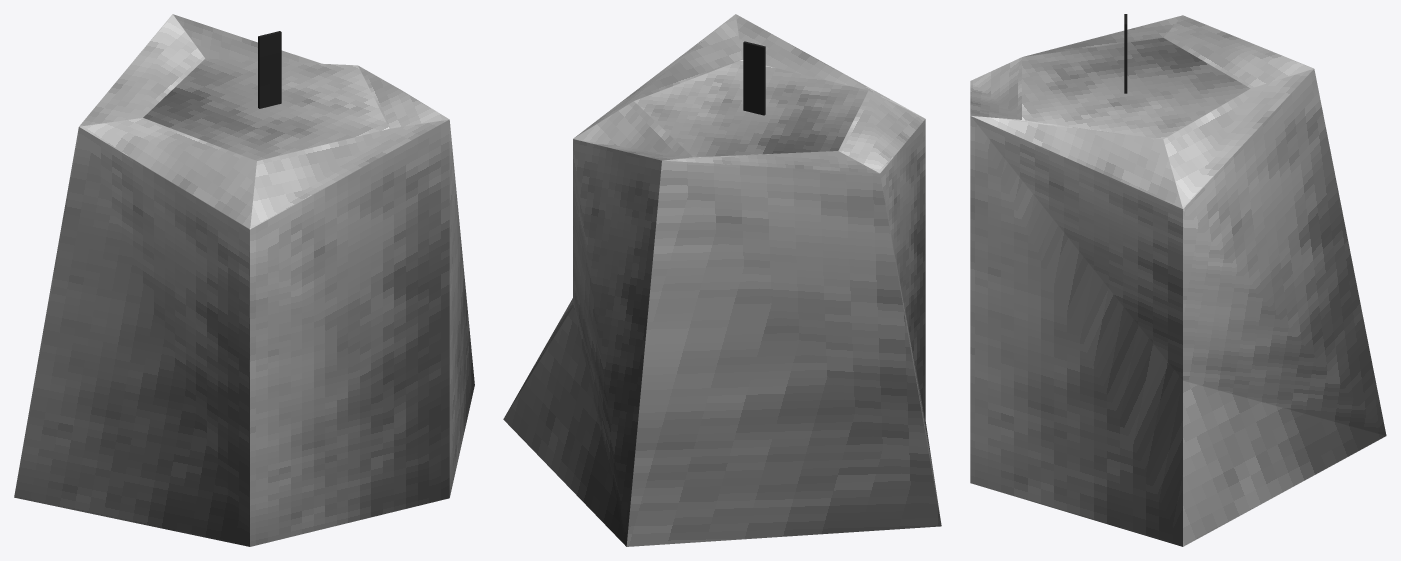
The model's file is candle_unlit2.glb.
3 views of the same model, side by side, from view 1: azimuth 30°, elevation 25°; view 2: azimuth 150°, elevation 25°; view 3: azimuth 270°, elevation 25° (orthographic). The views are drawn at different scales.
Parts seen in each view (by area): view 1: candle_unlit2; view 2: candle_unlit2; view 3: candle_unlit2.
Part boxes in pixels (bbox=[...]): candle_unlit2: bbox=[14, 14, 474, 546]; candle_unlit2: bbox=[503, 14, 941, 546]; candle_unlit2: bbox=[970, 14, 1386, 546].
Size of the model in its own units: 0.0543 by 0.0484 by 0.0438.
Materials: 1 (1 with a texture image).
